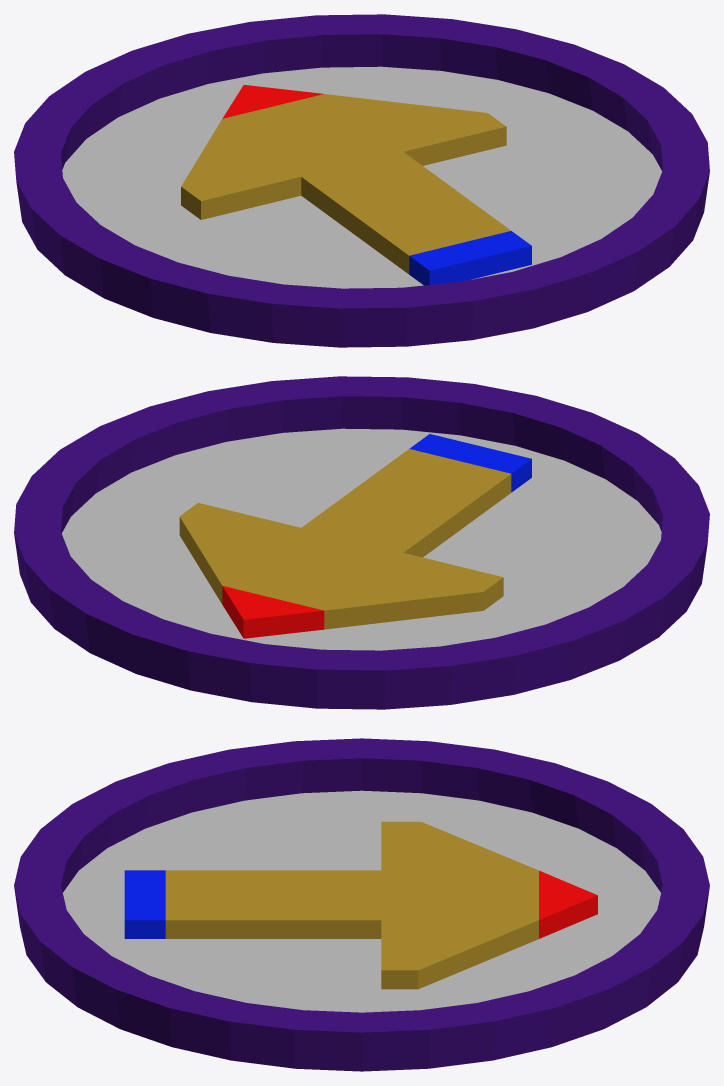
Rendered from Bussola.fbx.
The picture shows the model from 3 angles, top to bottom: view 1: azimuth 30°, elevation 25°; view 2: azimuth 150°, elevation 25°; view 3: azimuth 270°, elevation 25°; orthographic projection.
Parts seen in each view (by area): view 1: Circle, Cube; view 2: Circle, Cube; view 3: Circle, Cube.
Part boxes in pixels (left/top/right/bottom): Circle: left=14, top=14, right=709, bottom=347; Cube: left=181, top=85, right=531, bottom=285; Circle: left=14, top=376, right=709, bottom=709; Cube: left=179, top=434, right=531, bottom=638; Circle: left=14, top=738, right=709, bottom=1071; Cube: left=124, top=821, right=597, bottom=989.
Size of the model in its own units: 1182 by 77.86 by 1182.
Materials: 2 (2 with a texture image).
